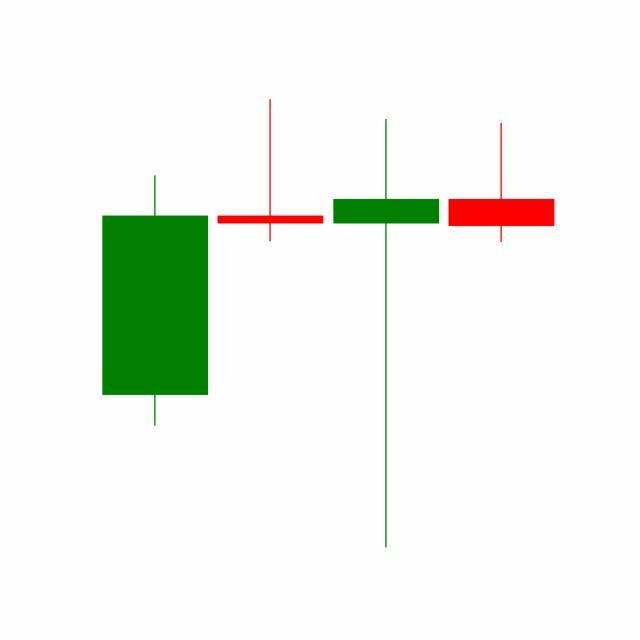Spinning Top: (329, 114, 445, 553)
